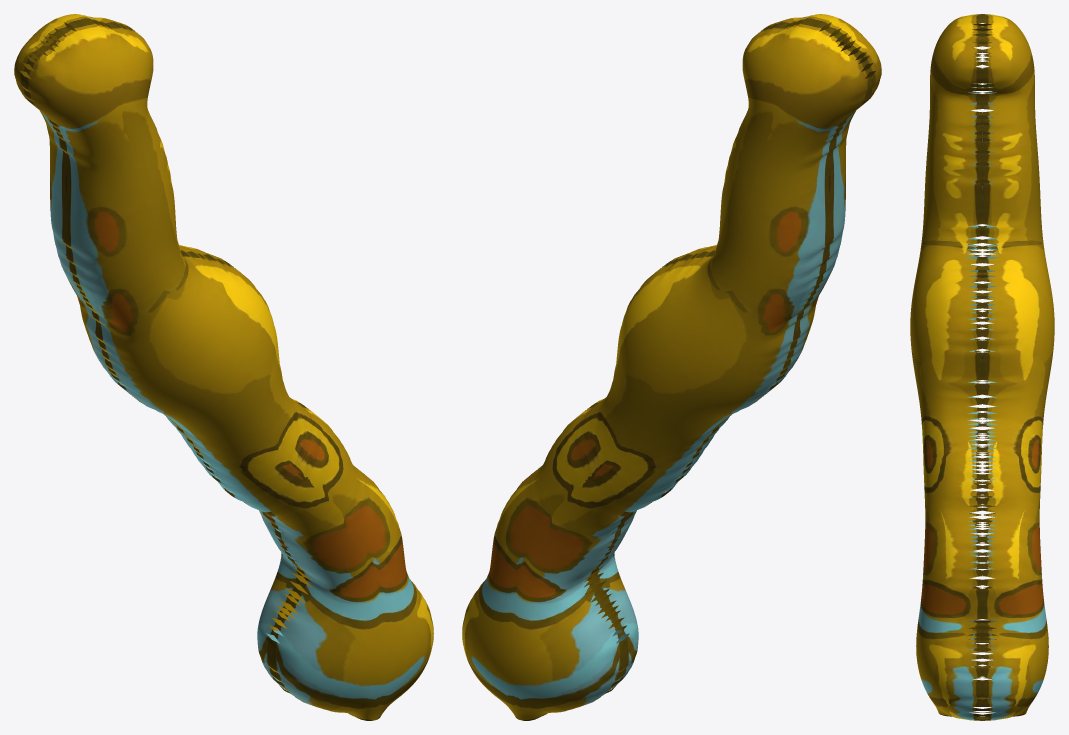
File: hanging_root.glb
3 renders of one model, left to right at view 1: azimuth 30°, elevation 25°; view 2: azimuth 150°, elevation 25°; view 3: azimuth 270°, elevation 25°, orthographic. The views are drawn at different scales.
Visible parts, largest first — view 1: hanging_root; view 2: hanging_root; view 3: hanging_root.
Boxes of the visible parts, x1=… form: hanging_root: x1=14, y1=14, x2=433, y2=720; hanging_root: x1=462, y1=14, x2=881, y2=720; hanging_root: x1=910, y1=14, x2=1054, y2=720.
Bounding box in the file's own units: 0.9805 × 1.76 × 0.3892.
Materials: 1 (1 with a texture image).
